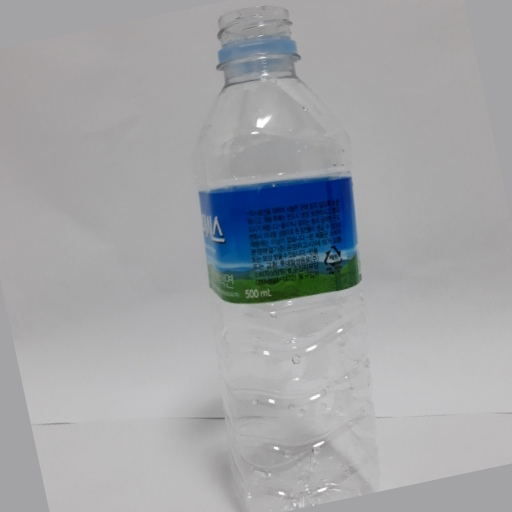Plastic_0: (191, 6, 380, 509)
